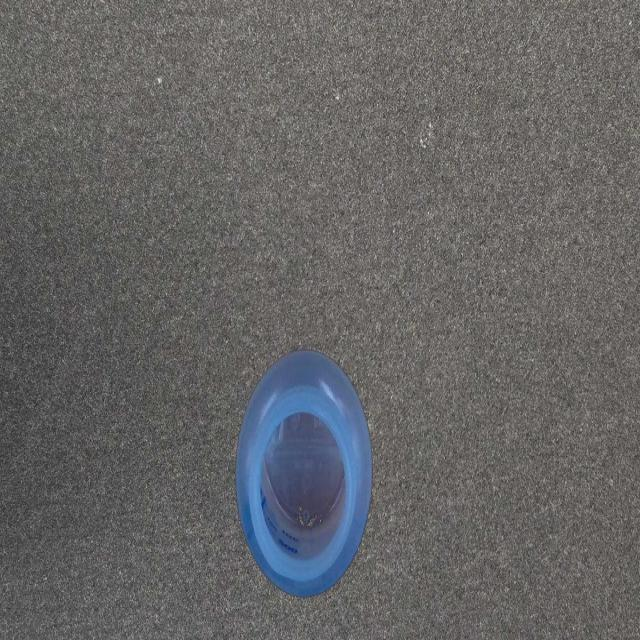bottle: (234, 348, 374, 596)
